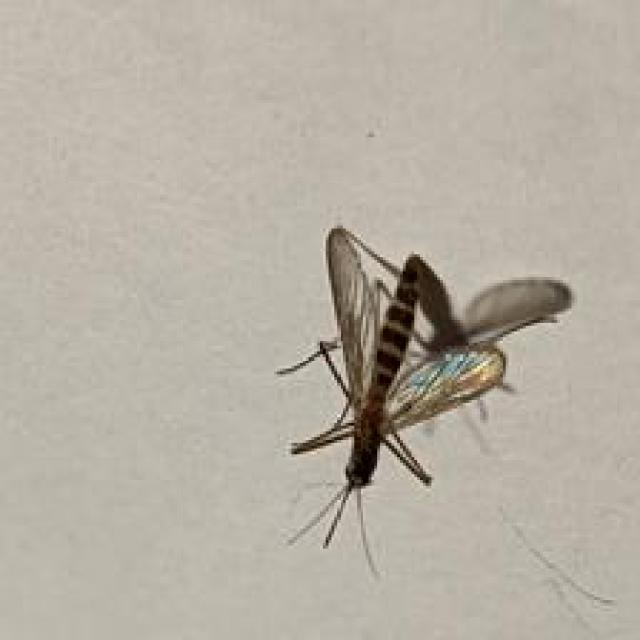Culex: (274, 223, 574, 577)
